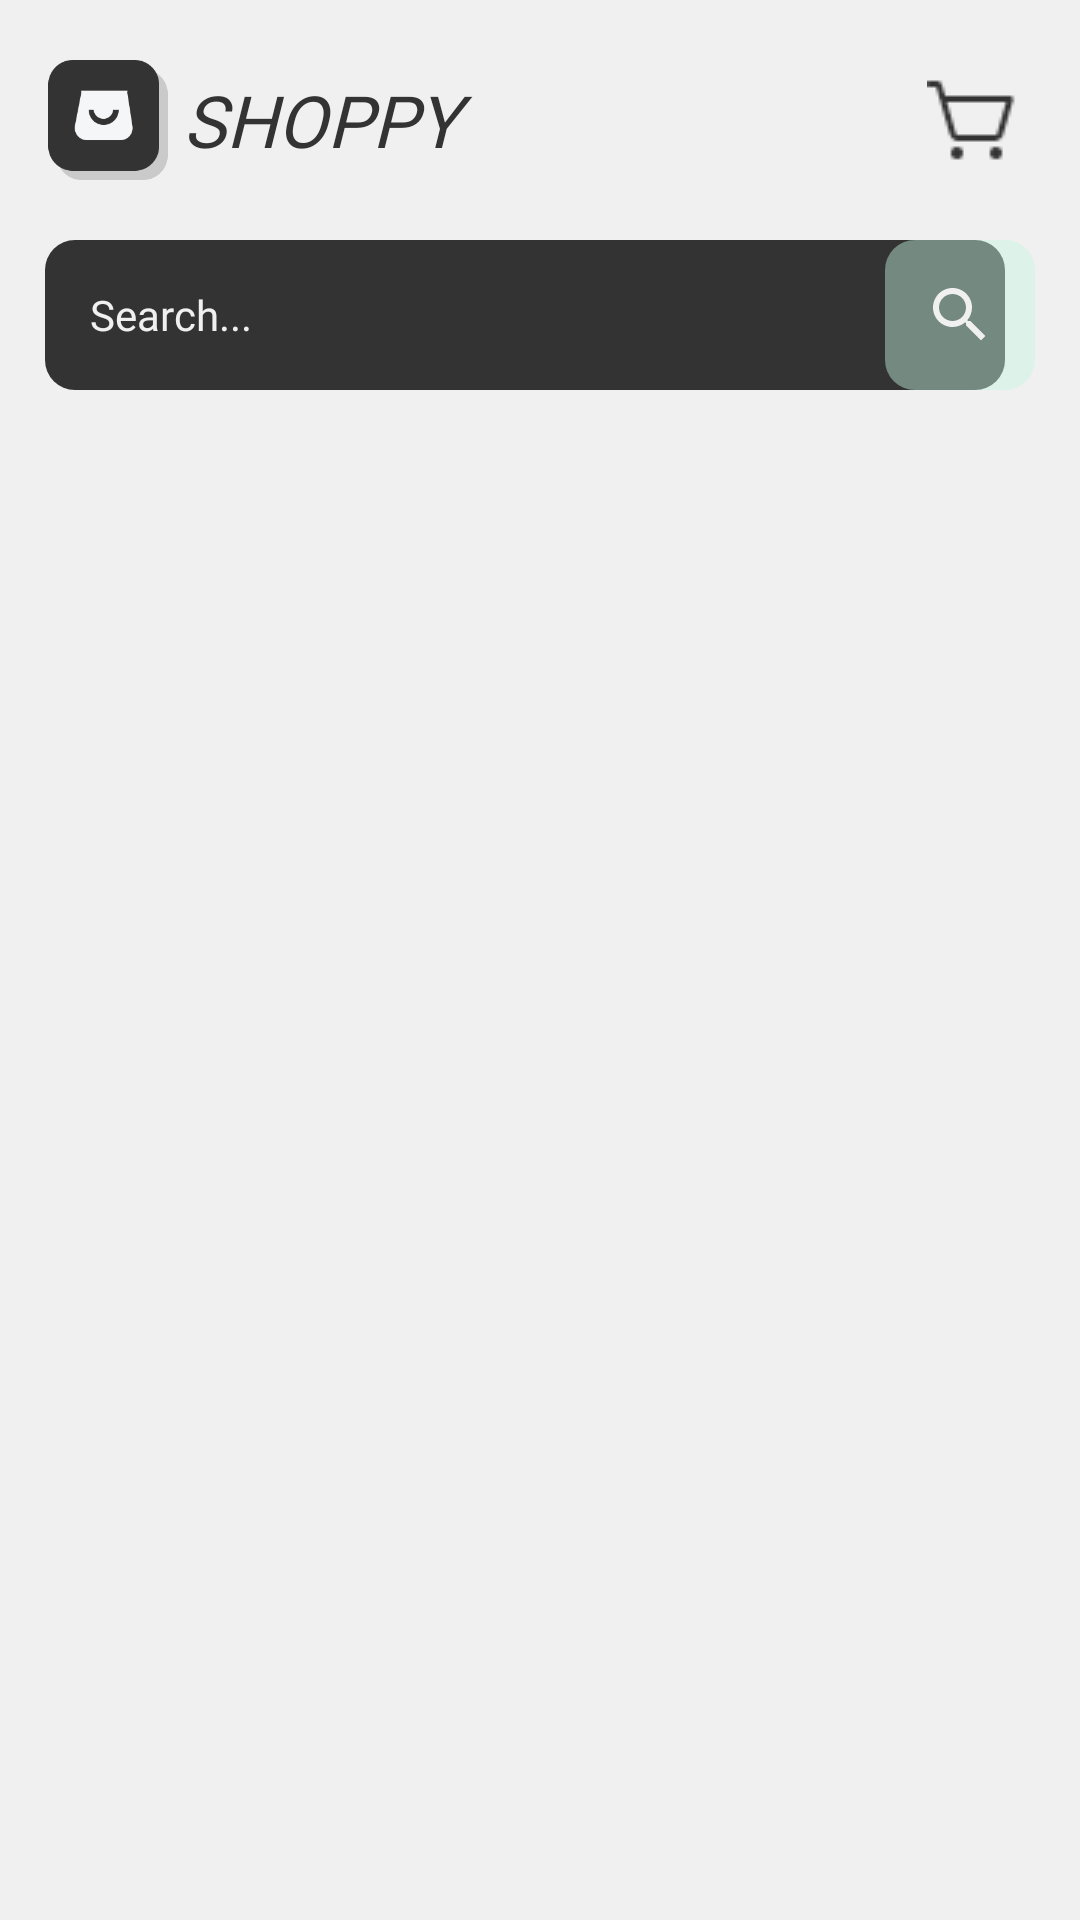

Named icons in this screenshot (1080x1920) and their centers, (x=x, y=y):
cart: (x=971, y=120)
